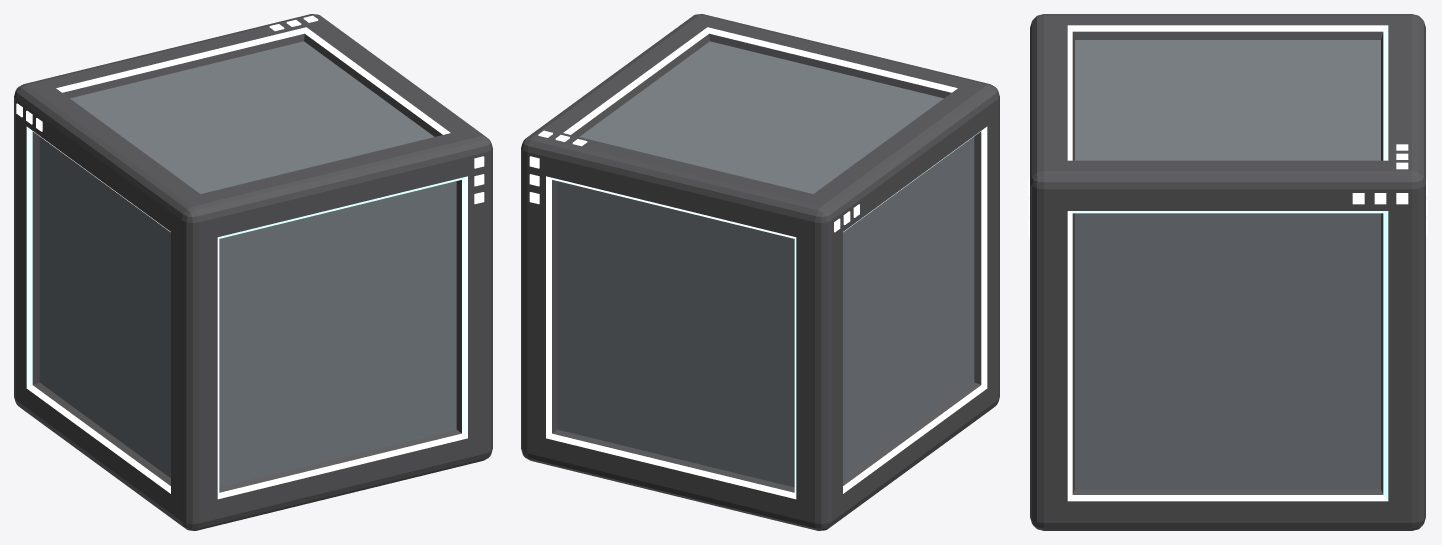
The model's file is lattice_crate.glb.
3 renders of one model, left to right at view 1: azimuth 30°, elevation 25°; view 2: azimuth 150°, elevation 25°; view 3: azimuth 270°, elevation 25°, orthographic. The views are drawn at different scales.
Parts seen in each view (by area): view 1: crate; view 2: crate; view 3: crate.
Boxes of the visible parts, x1,y1,x2,y2 form: crate: [14, 14, 492, 530]; crate: [521, 14, 999, 530]; crate: [1030, 14, 1425, 530].
Size of the model in its own units: 1.01 by 1.01 by 1.01.
